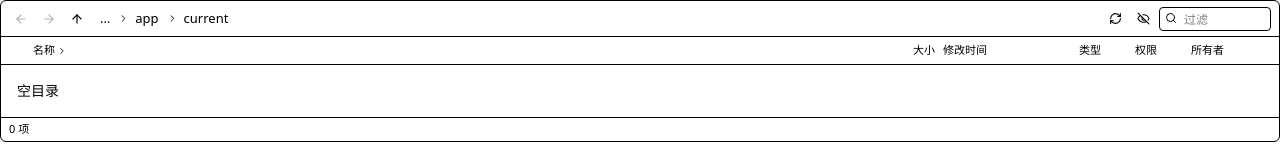
窄面板里的路径面包屑：放不下时前面几级折成「…」 › 宽度不够：最后几级留着，前面折成「…」，点它进入路径输入并看到完整路径
Click the button "…" at coordinates (105, 19), box [94,7,116,30]
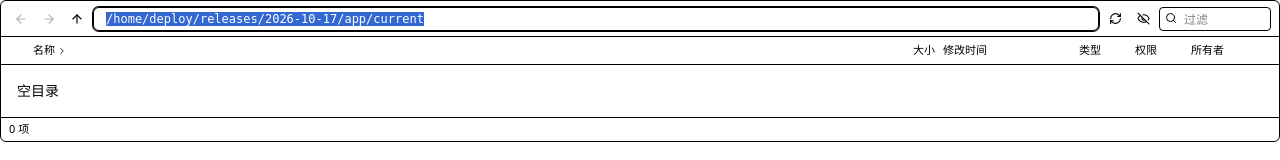
Expected: the field with class "font-mono" holds "/home/deploy/releases/2026-10-17/app/current", [93,6,1099,30]
